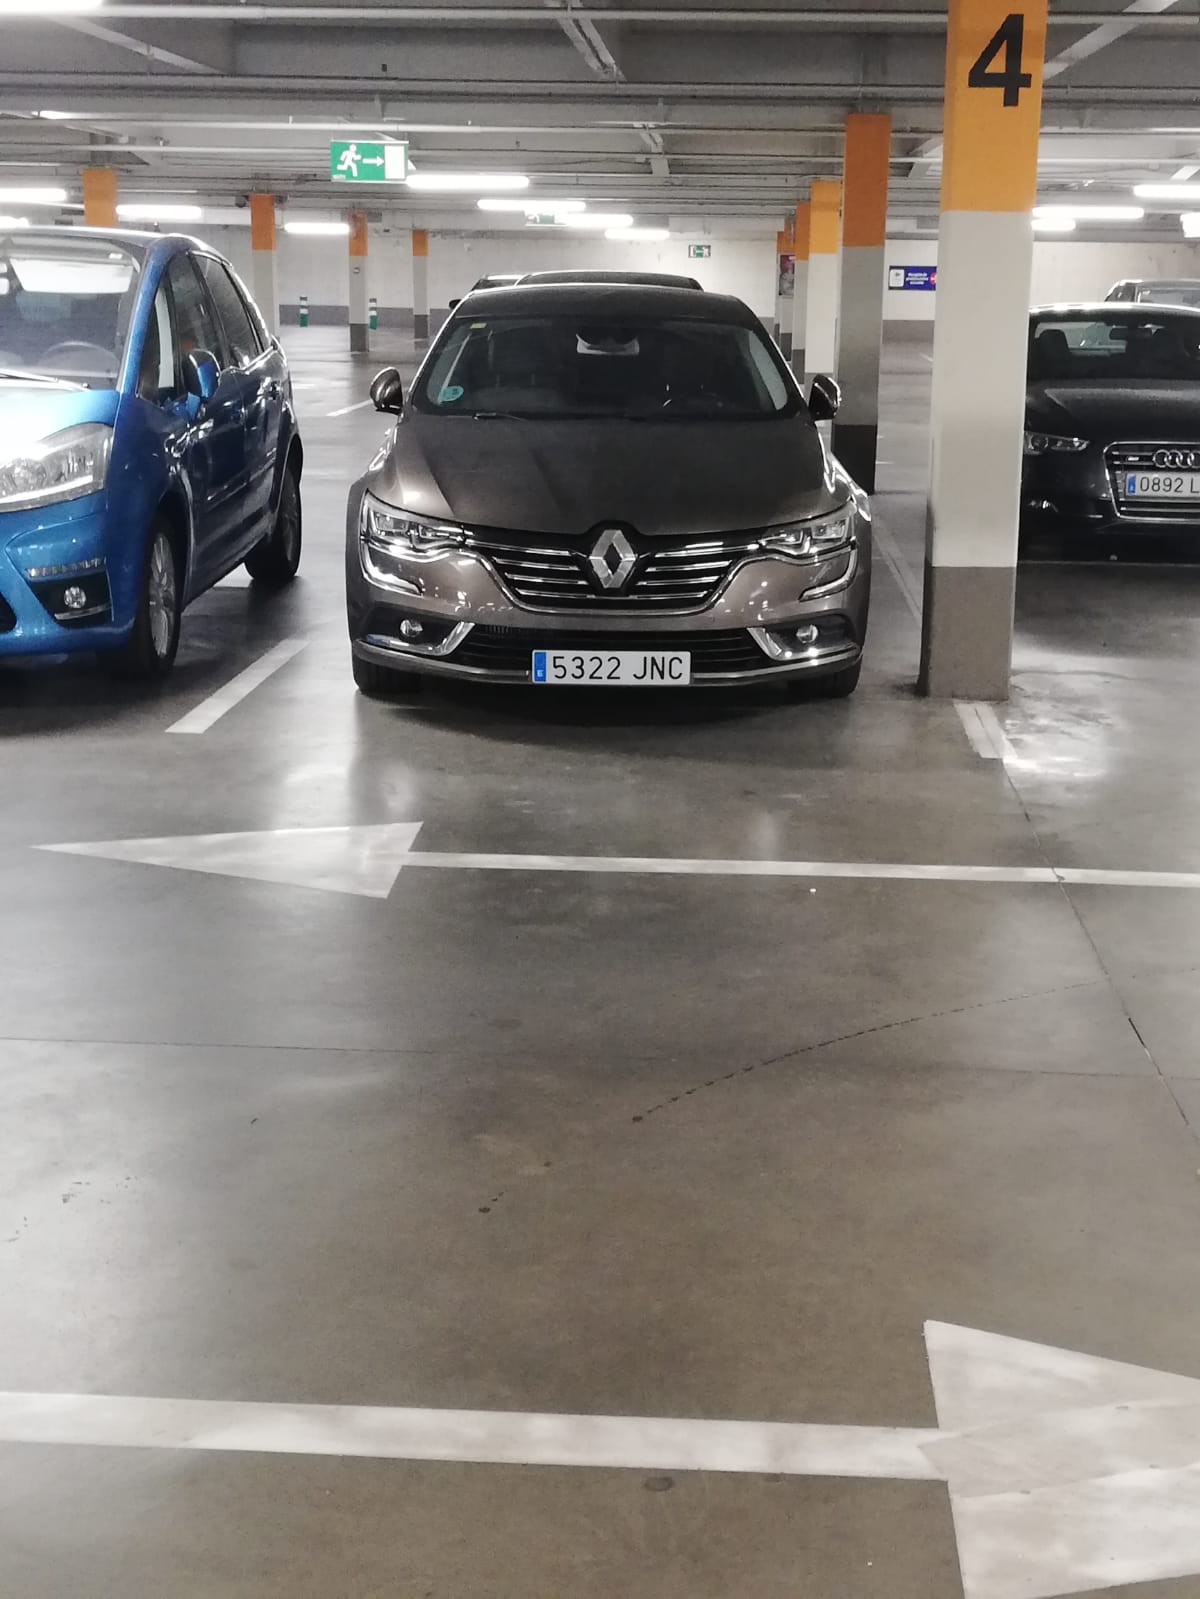Car: (344, 283, 871, 701)
Plate: (531, 649, 690, 686)
